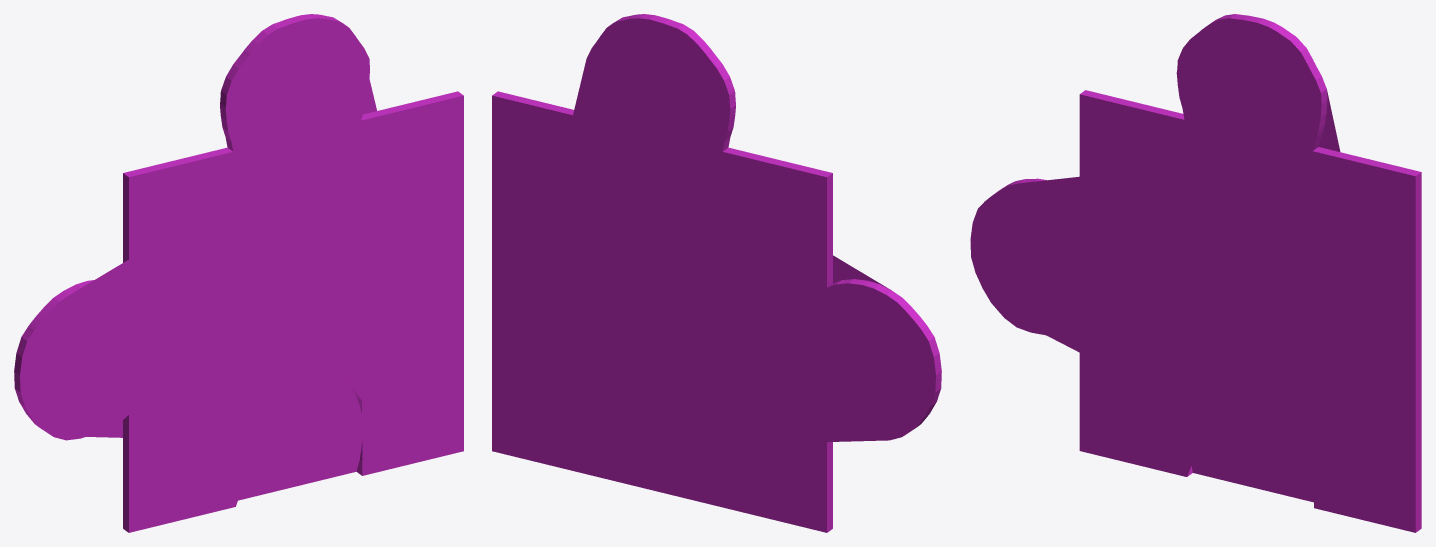
The model's file is SidePiece2.obj.
The picture shows the model from 3 angles, left to right: view 1: azimuth 30°, elevation 25°; view 2: azimuth 150°, elevation 25°; view 3: azimuth 330°, elevation 25°; orthographic projection.
Parts seen in each view (by area): view 1: Cap_1, Cap_2, Extrude; view 2: Cap_2, Extrude, Cap_1; view 3: Cap_1, Cap_2, Extrude.
Boxes of the visible parts, box(x1,y1,x2,y2) form: Cap_1: box(20, 18, 463, 532); Cap_2: box(86, 79, 376, 500); Extrude: box(14, 14, 463, 532); Cap_2: box(492, 18, 935, 532); Extrude: box(492, 14, 941, 532); Cap_1: box(833, 255, 890, 289); Cap_1: box(970, 18, 1415, 532); Cap_2: box(1046, 90, 1340, 502); Extrude: box(995, 14, 1421, 532).
Bounding box in the file's own units: 0.6941 × 0.7023 × 0.0158.
